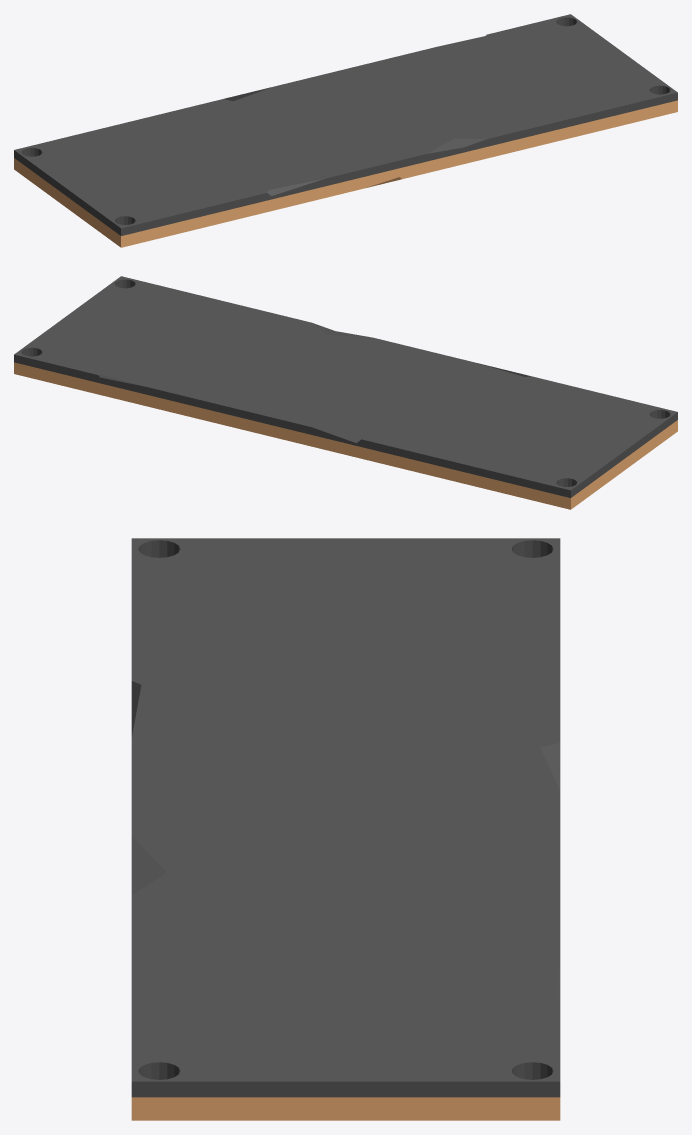
Rendered from 1x3_Scaffold.fbx.
3 renders of one model, top to bottom at view 1: azimuth 30°, elevation 25°; view 2: azimuth 150°, elevation 25°; view 3: azimuth 270°, elevation 25°, orthographic. The views are drawn at different scales.
Parts seen in each view (by area): view 1: 1x3 Scaffold; view 2: 1x3 Scaffold; view 3: 1x3 Scaffold.
Part boxes in pixels (left/top/right/bottom): 1x3 Scaffold: left=14, top=14, right=677, bottom=247; 1x3 Scaffold: left=14, top=276, right=677, bottom=509; 1x3 Scaffold: left=131, top=538, right=560, bottom=1120.
Bounding box in the file's own units: 300 × 10 × 100.
